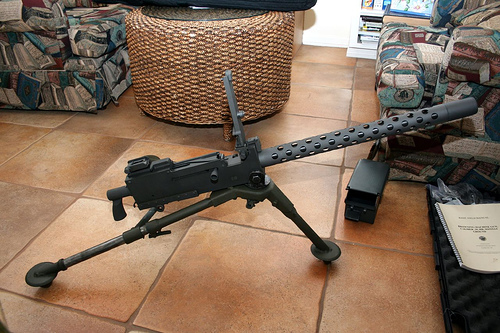rifle: (29, 94, 480, 297)
